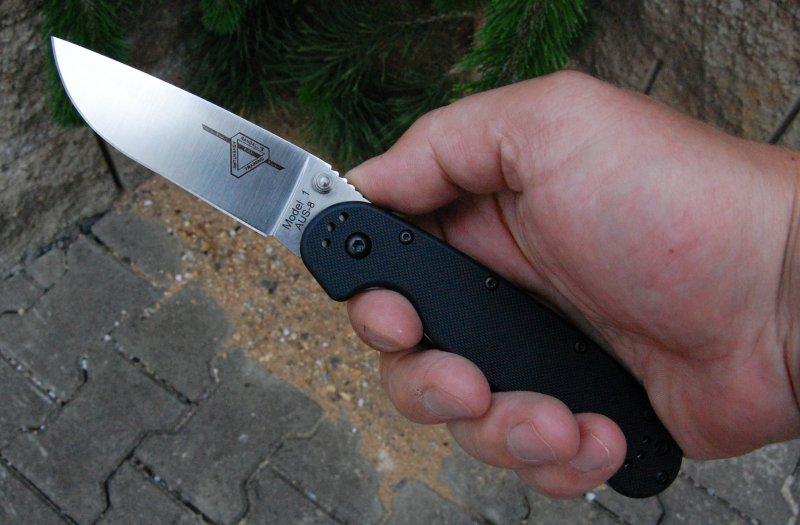knife: (44, 24, 632, 501)
